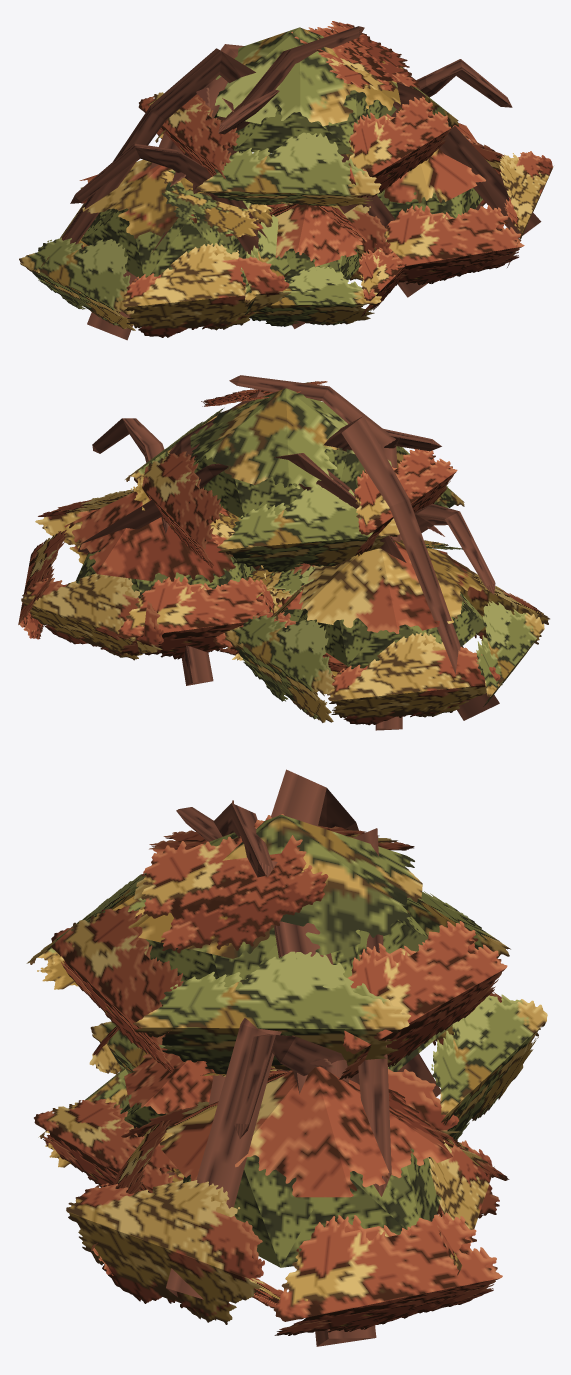
Rendered from SM_VG10_ThornThicket.fbx.
3 renders of one model, top to bottom at view 1: azimuth 30°, elevation 25°; view 2: azimuth 150°, elevation 25°; view 3: azimuth 270°, elevation 25°, orthographic. The views are drawn at different scales.
Parts seen in each view (by area): view 1: VG10_Thicket; view 2: VG10_Thicket; view 3: VG10_Thicket.
Boxes of the visible parts, x1,y1,x2,y2 form: VG10_Thicket: (19, 21, 553, 340); VG10_Thicket: (18, 375, 549, 730); VG10_Thicket: (26, 769, 547, 1346).
Size of the model in its own units: 2.19 by 1.2 by 1.39.
